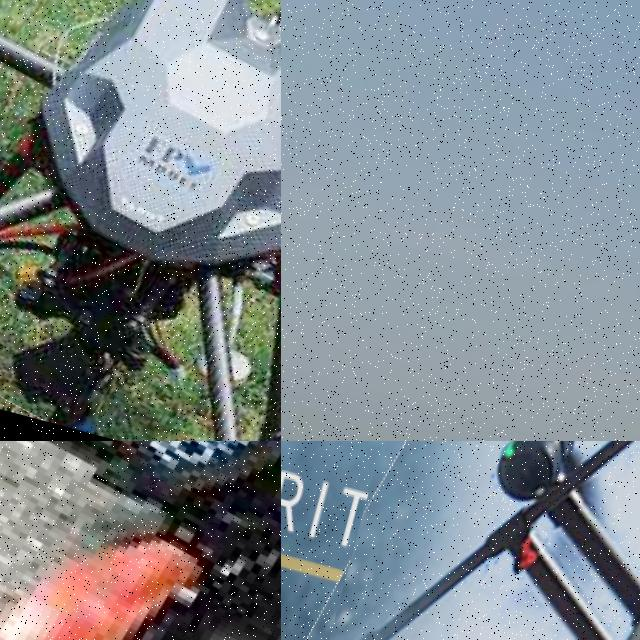drone: (0, 0, 281, 441), (297, 441, 640, 640), (0, 441, 281, 640)
